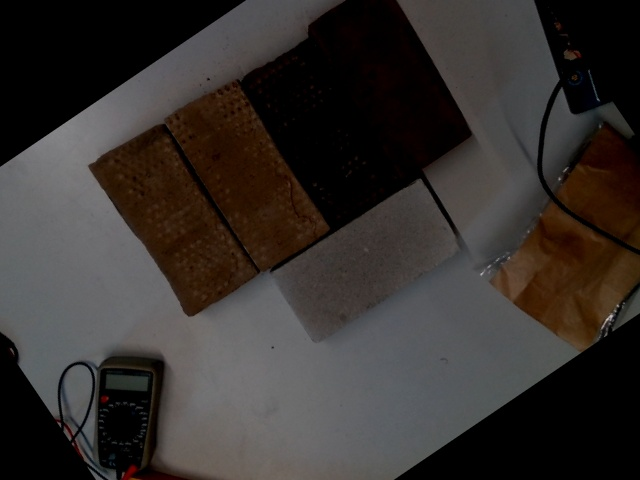brick: (172, 82, 324, 268), (99, 129, 249, 312), (277, 186, 458, 337), (248, 45, 390, 220)
